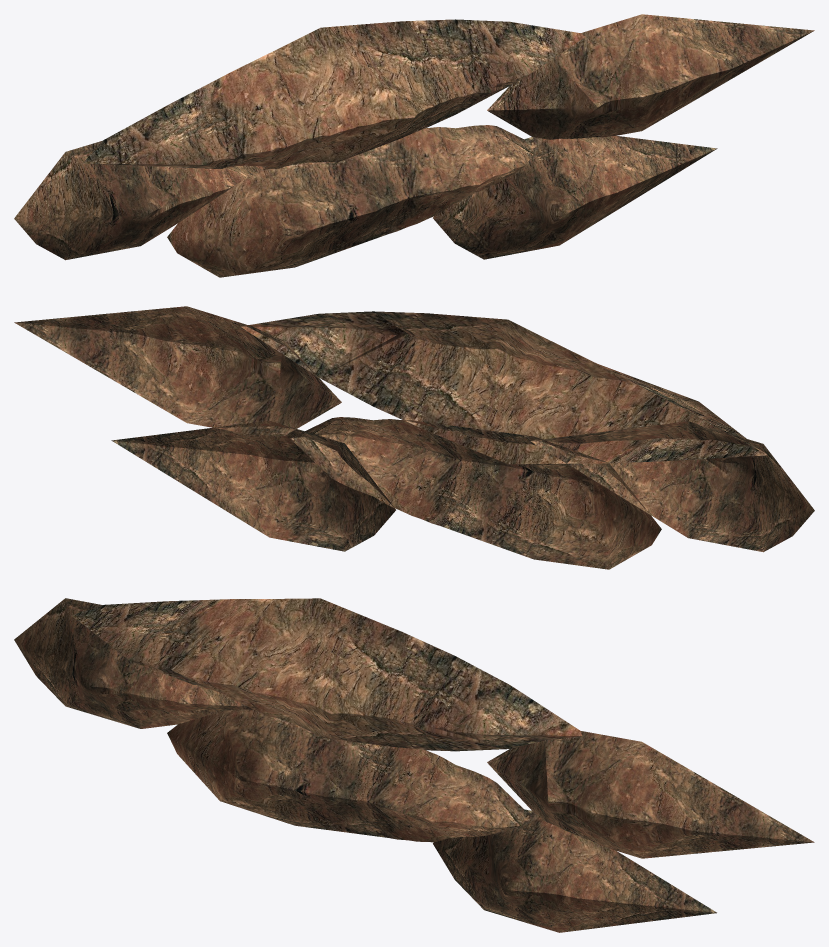
File: tunisia_mountains_red.glb
3 views of the same model, one above another, from view 1: azimuth 30°, elevation 25°; view 2: azimuth 150°, elevation 25°; view 3: azimuth 330°, elevation 25° (orthographic).
Size of the model in its own units: 30159 by 9938 by 2704.
1 material, 1 textured.
